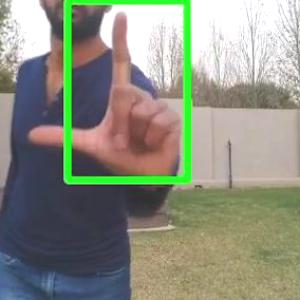land_hand: (26, 7, 183, 182)
